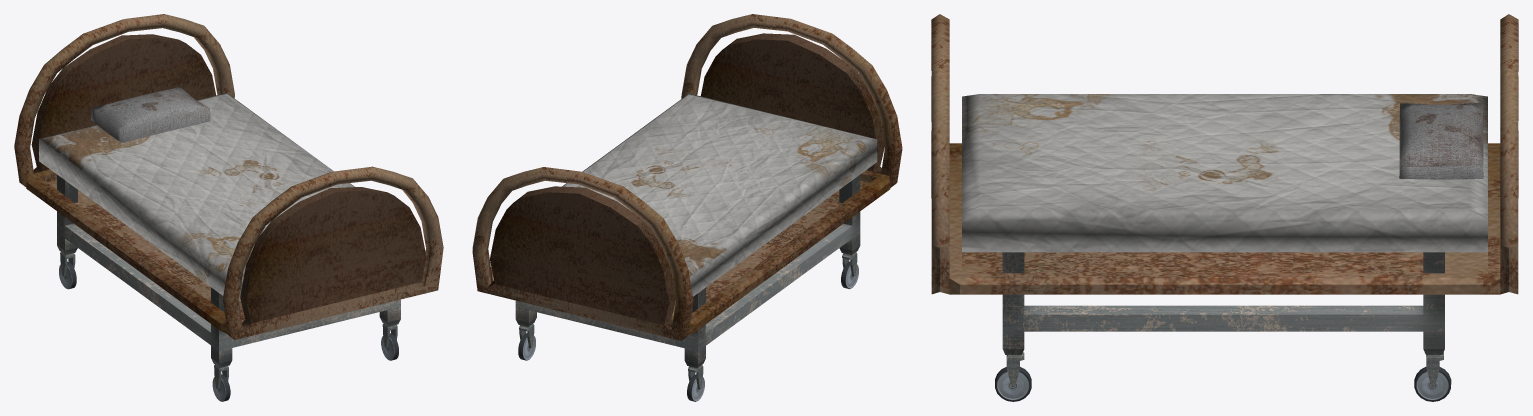
The model's file is Bed.fbx.
The picture shows the model from 3 angles, left to right: view 1: azimuth 30°, elevation 25°; view 2: azimuth 150°, elevation 25°; view 3: azimuth 270°, elevation 25°; orthographic projection. The views are drawn at different scales.
Visible parts, largest first — view 1: polySurface191, polySurface176, polySurface177; view 2: polySurface191, polySurface176; view 3: polySurface176, polySurface191, polySurface177.
Boxes of the visible parts, x1,y1,x2,y2 form: polySurface191: (14,14,443,401); polySurface176: (39,93,354,300); polySurface177: (91,86,210,142); polySurface191: (472,14,902,401); polySurface176: (562,93,877,300); polySurface176: (962,94,1487,252); polySurface191: (931,14,1518,401); polySurface177: (1399,103,1483,179).
Size of the model in its own units: 7.64 by 7.54 by 12.91.
